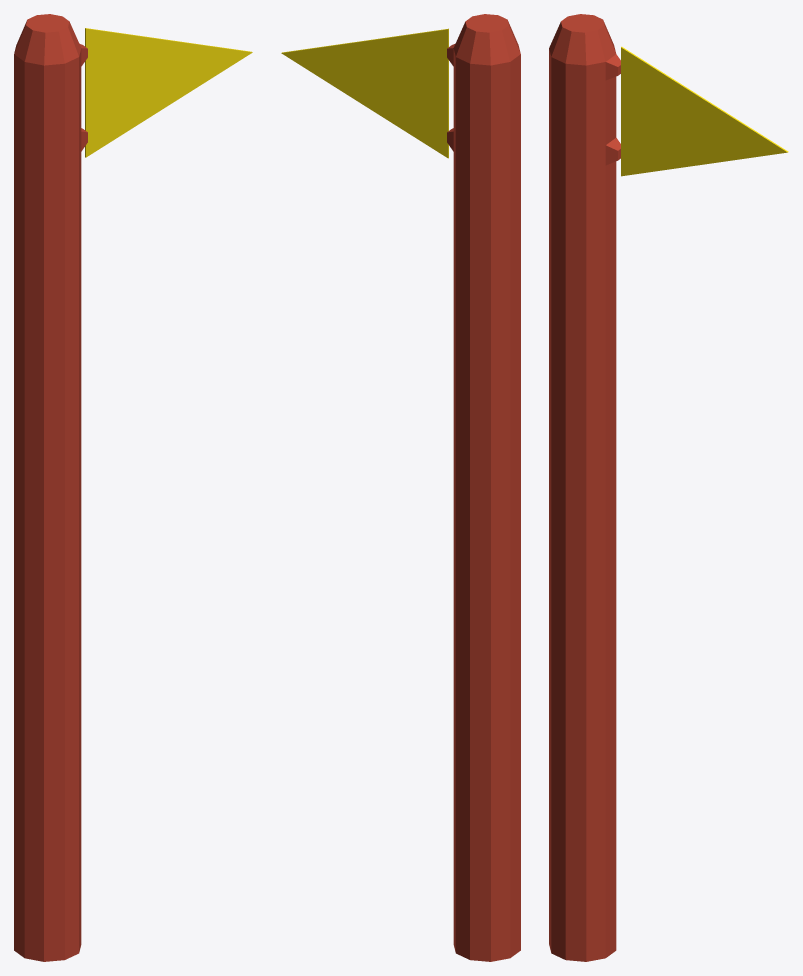
Rendered from BanderinChico.fbx.
3 views of the same model, side by side, from view 1: azimuth 30°, elevation 25°; view 2: azimuth 150°, elevation 25°; view 3: azimuth 330°, elevation 25° (orthographic).
Visible parts, largest first — view 1: Banderin; view 2: Banderin; view 3: Banderin.
Part boxes in pixels (x1=…): Banderin: x1=14, y1=14, x2=252, y2=961; Banderin: x1=281, y1=14, x2=520, y2=961; Banderin: x1=549, y1=14, x2=788, y2=961.
Bounding box in the file's own units: 0.5452 × 2.06 × 0.1391.
